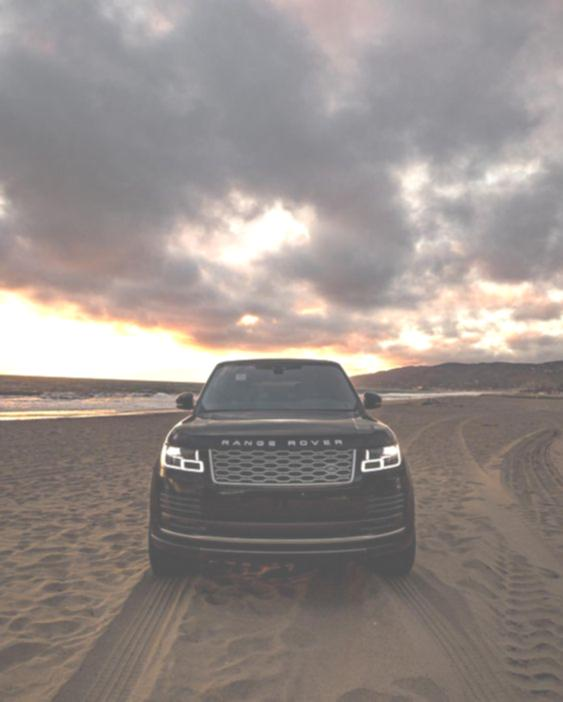range rover: (216, 433, 347, 452)
